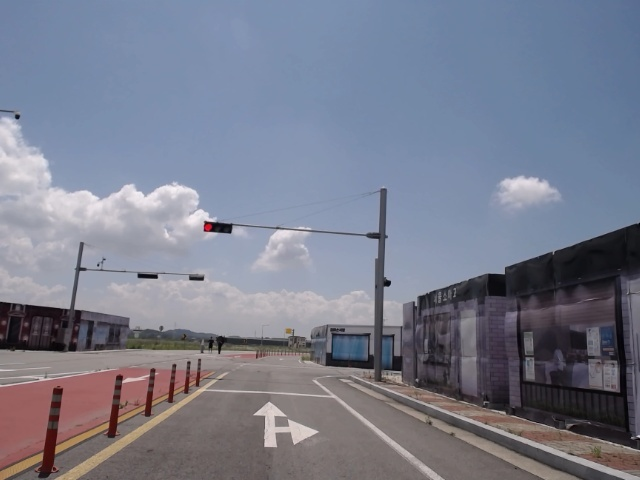red_3: (203, 221, 233, 235)
